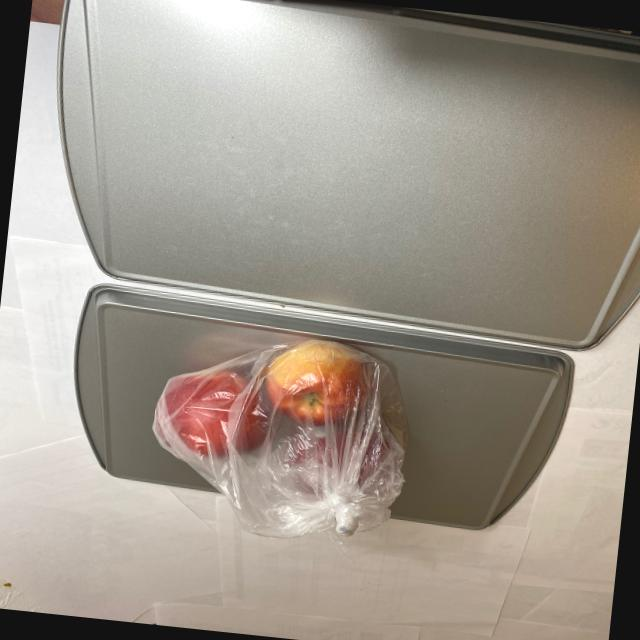apple: (140, 325, 406, 508)
